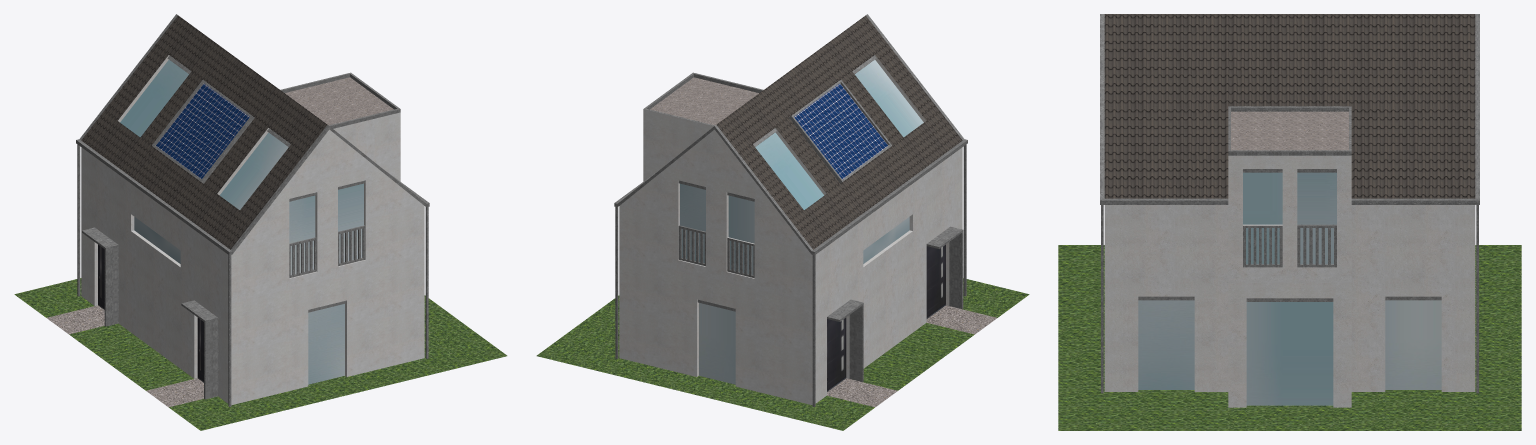
File: house.glb
3 views of the same model, side by side, from view 1: azimuth 30°, elevation 25°; view 2: azimuth 150°, elevation 25°; view 3: azimuth 270°, elevation 25° (orthographic). The views are drawn at different scales.
Parts seen in each view (by area): view 1: House; view 2: House; view 3: House.
Part boxes in pixels (x1,y1,x2,y2): House: (14,14,507,430); House: (536,14,1029,430); House: (1058,14,1521,430).
Size of the model in its own units: 2.38 by 1.9 by 2.5.
Materials: 9 (9 with a texture image).
